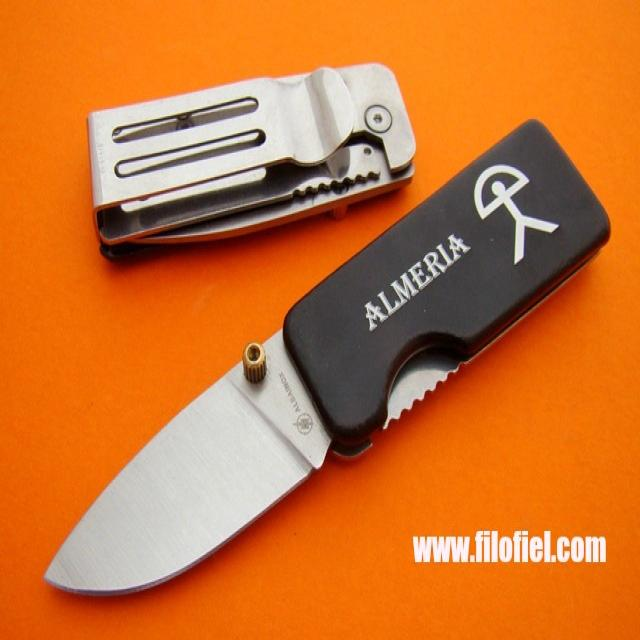knife: (36, 115, 619, 610)
